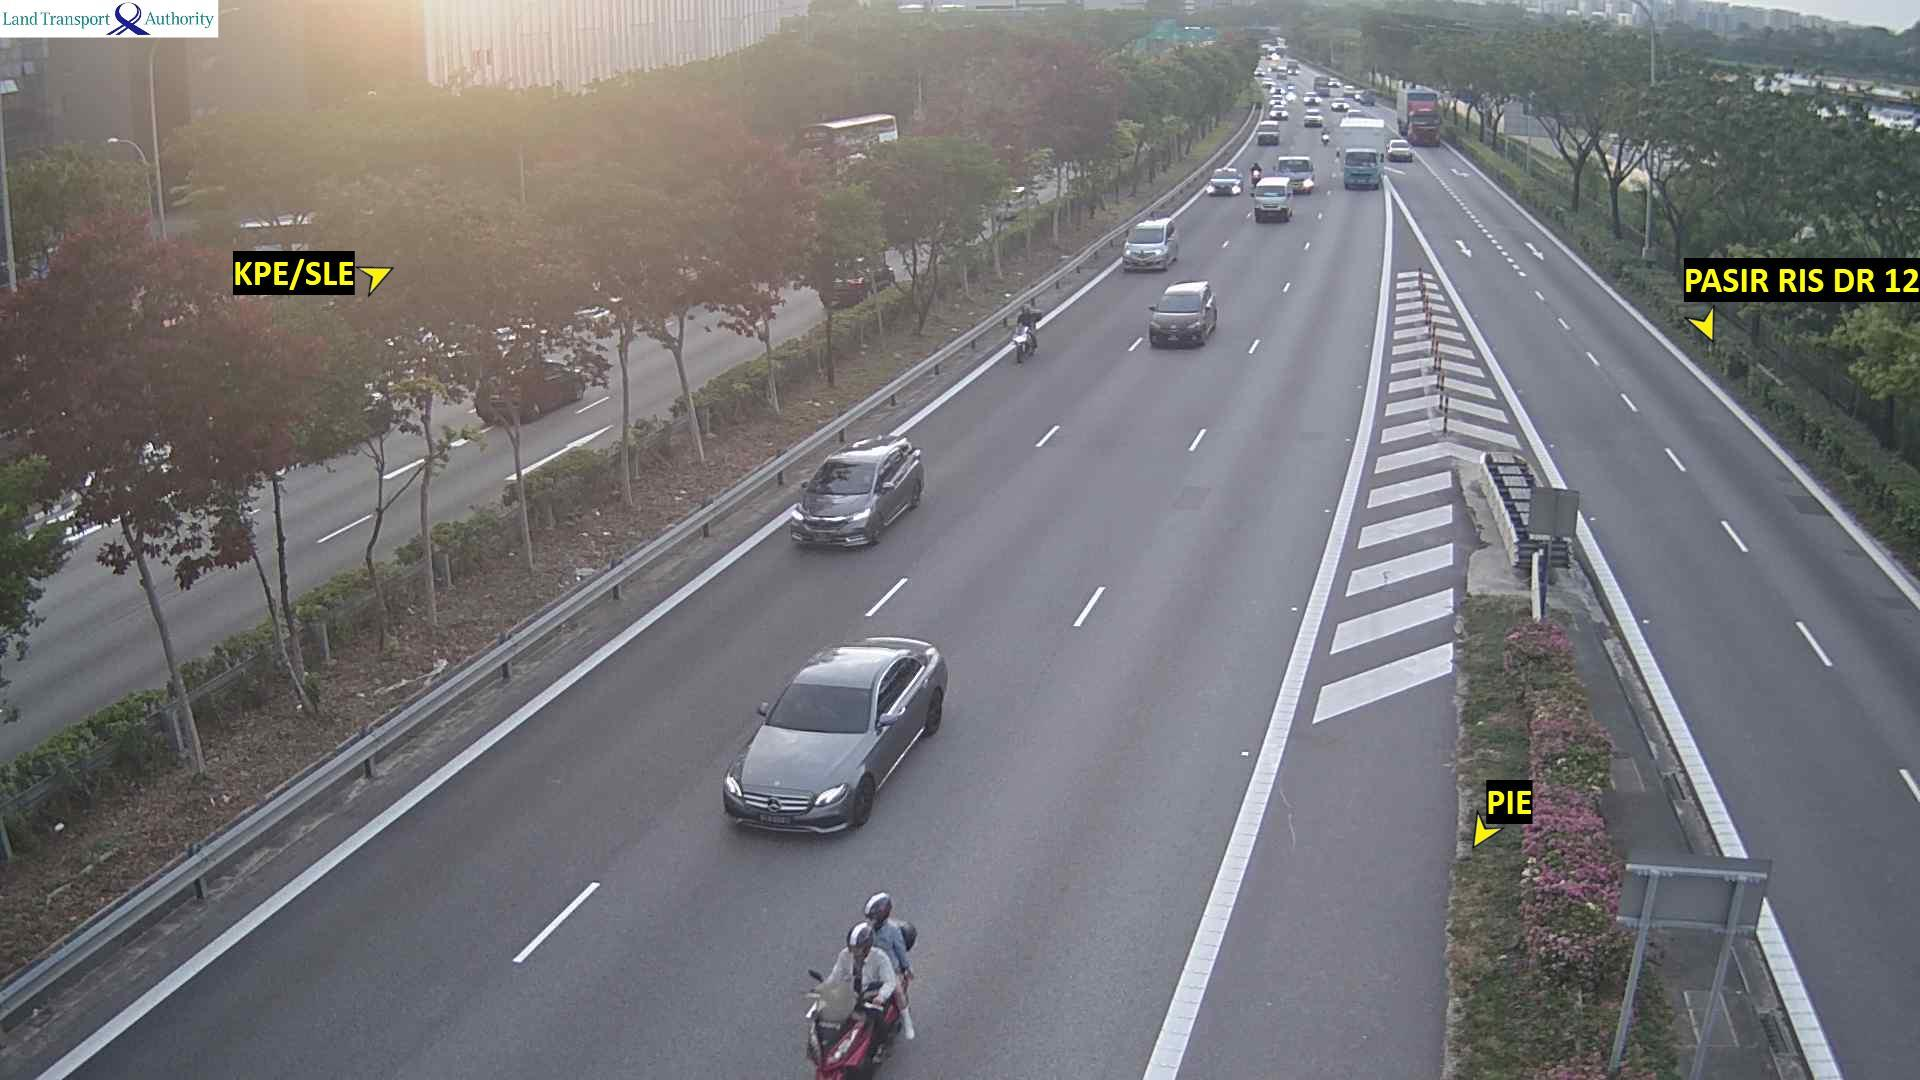incoming: (736, 687, 877, 834), (793, 991, 880, 1080), (792, 461, 880, 548), (1152, 291, 1206, 346), (1343, 127, 1379, 191), (1123, 227, 1167, 268), (1410, 93, 1442, 147), (1276, 155, 1315, 190), (1254, 185, 1290, 221), (1012, 327, 1036, 364), (1207, 172, 1240, 197), (1257, 123, 1279, 146), (1389, 142, 1414, 161)
